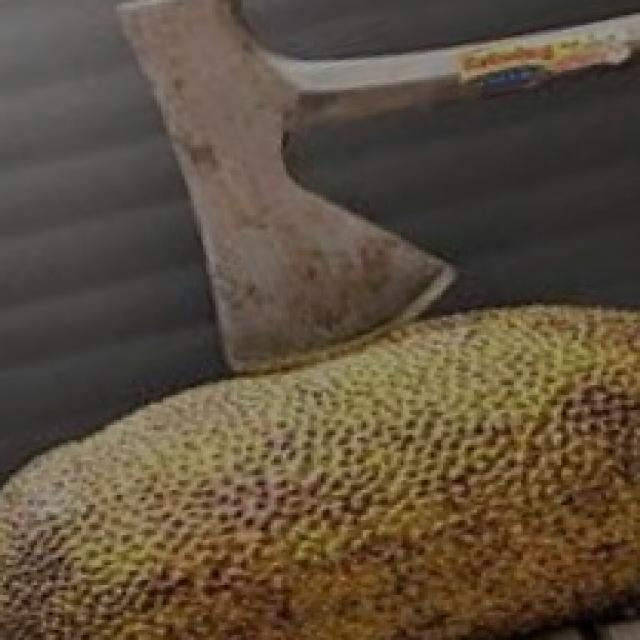Fruit: (267, 267, 640, 640), (0, 345, 388, 640)
